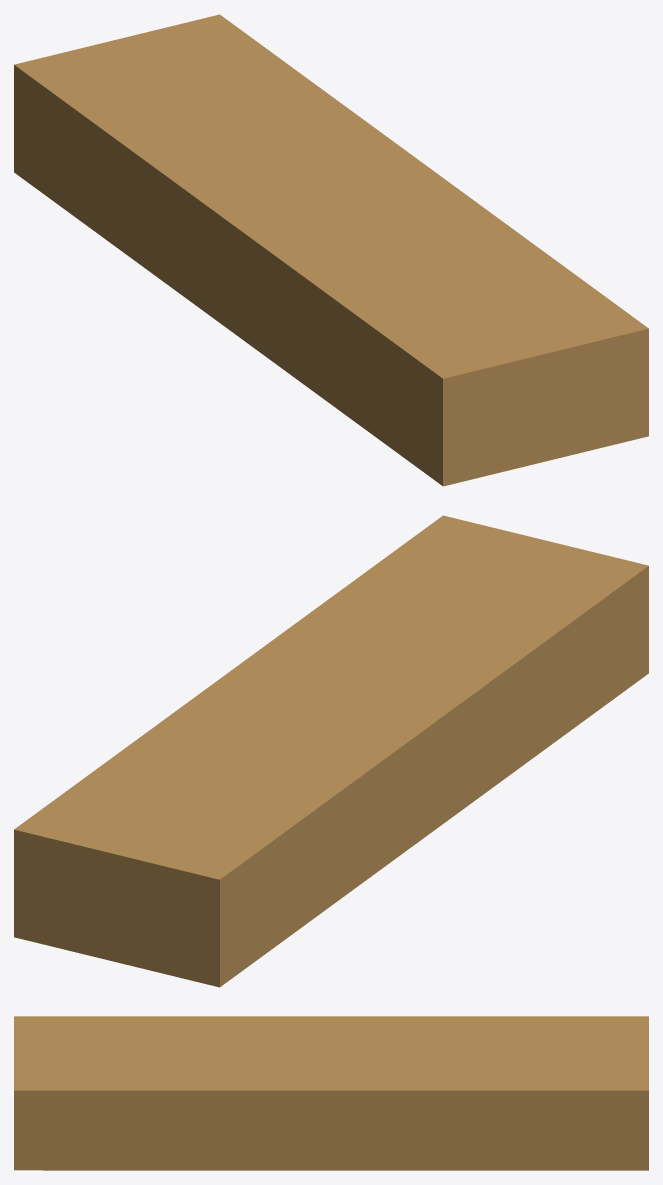
3 renders of one model, top to bottom at view 1: azimuth 30°, elevation 25°; view 2: azimuth 150°, elevation 25°; view 3: azimuth 270°, elevation 25°, orthographic. The views are drawn at different scales.
Visible parts, largest first — view 1: RUN-075-S00-NOG-09; view 2: RUN-075-S00-NOG-09; view 3: RUN-075-S00-NOG-09.
Boxes of the visible parts, box(x1,y1,x2,y2) form: RUN-075-S00-NOG-09: box(14, 14, 648, 486); RUN-075-S00-NOG-09: box(14, 515, 648, 987); RUN-075-S00-NOG-09: box(14, 1016, 648, 1170).
Size of the model in its own units: 0.09 by 0.045 by 0.325.
